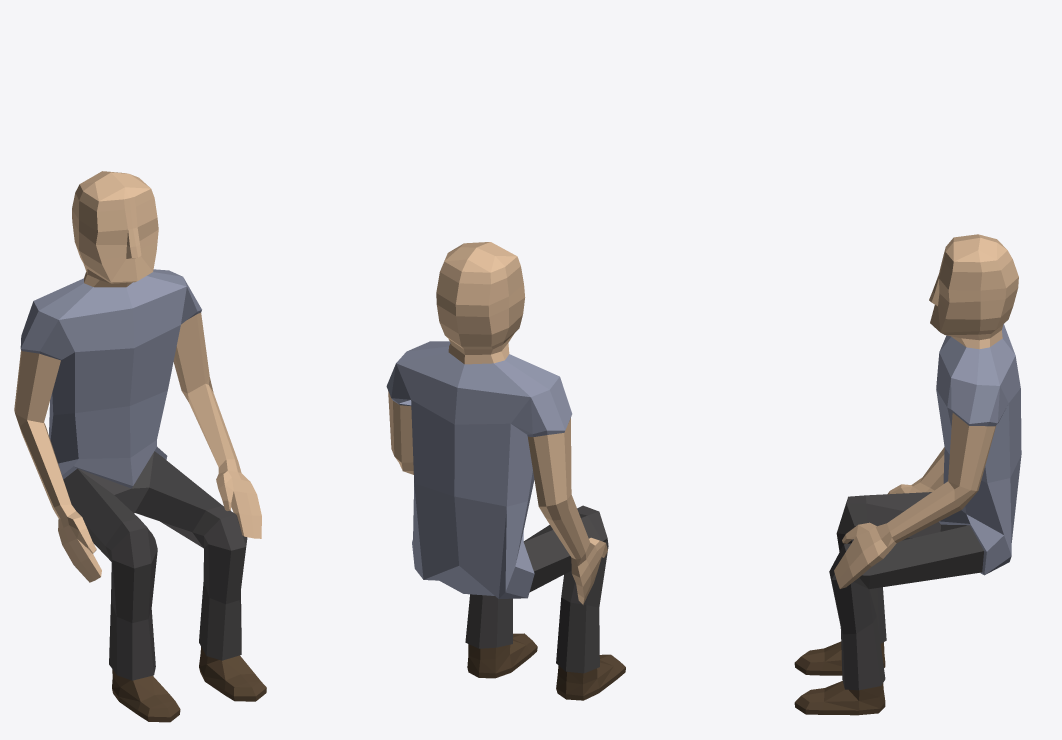
File: quaternius_cc0-male-character-1157.glb
3 renders of one model, left to right at view 1: azimuth 30°, elevation 25°; view 2: azimuth 150°, elevation 25°; view 3: azimuth 270°, elevation 25°, orthographic. The views are drawn at different scales.
Visible parts, largest first — view 1: Male_Sitting; view 2: Male_Sitting; view 3: Male_Sitting.
Part boxes in pixels (left/top/right/bottom): Male_Sitting: left=14, top=171, right=266, bottom=722; Male_Sitting: left=386, top=242, right=625, bottom=700; Male_Sitting: left=794, top=234, right=1021, bottom=715.
Size of the model in its own units: 1.98 by 4.5 by 2.01.
